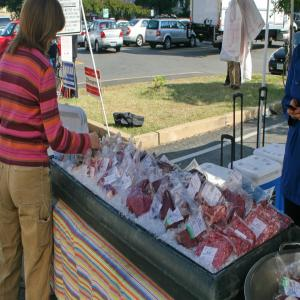Vehicle-registration-plate: (112, 44, 117, 47)
